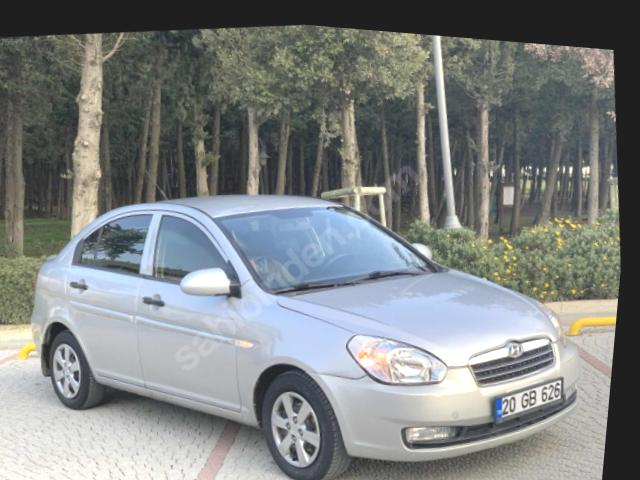plaka: (495, 380, 563, 423)
